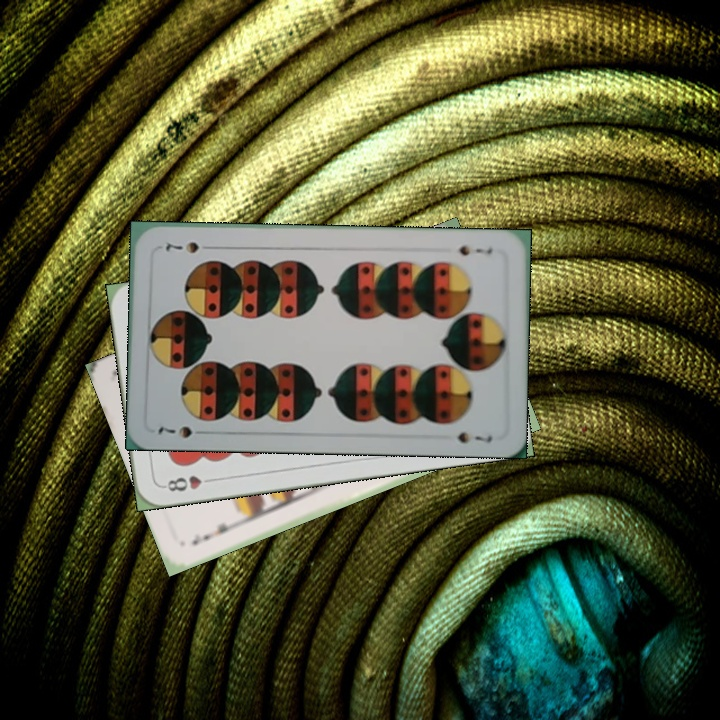E7: (187, 518, 240, 548)
H8: (159, 471, 218, 494)
S7: (154, 422, 210, 440), (455, 241, 495, 258)
